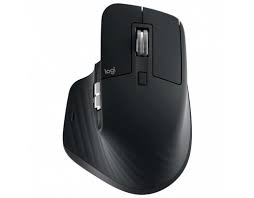mouse: (57, 2, 200, 193)
